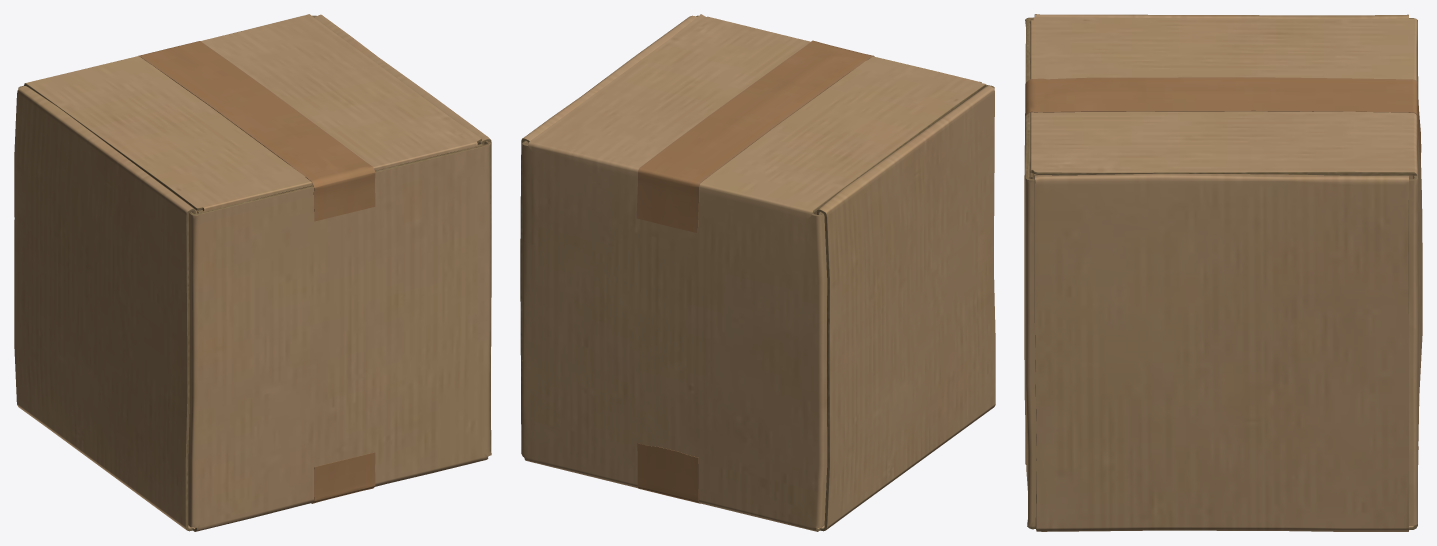
3 renders of one model, left to right at view 1: azimuth 30°, elevation 25°; view 2: azimuth 150°, elevation 25°; view 3: azimuth 270°, elevation 25°, orthographic. The views are drawn at different scales.
Parts seen in each view (by area): view 1: sm_box_cube_a01_01; view 2: sm_box_cube_a01_01; view 3: sm_box_cube_a01_01.
Part boxes in pixels (box(x1,y1,x2,y2)): sm_box_cube_a01_01: box(14, 14, 491, 531); sm_box_cube_a01_01: box(520, 14, 995, 531); sm_box_cube_a01_01: box(1024, 14, 1422, 531).
Size of the model in its own units: 0.1057 by 0.1053 by 0.1052.
Materials: 2 (2 with a texture image).
